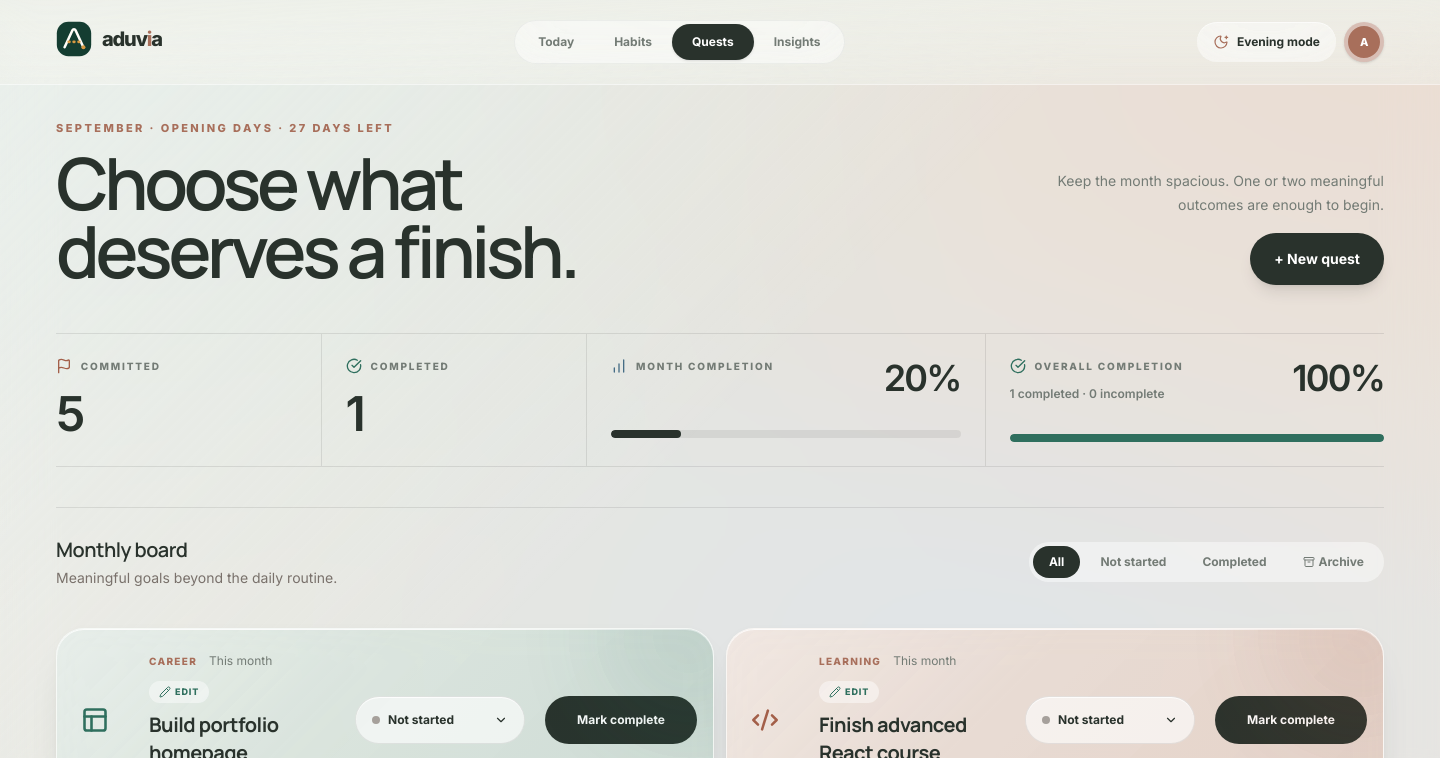
Scenario: QuestsDashboard › renames a quest and updates its inferred category
The image size is (1440, 758).
Click the button named "Edit Build portfolio homepage" at (179, 692), box x1=149 y1=681 x2=209 y2=703
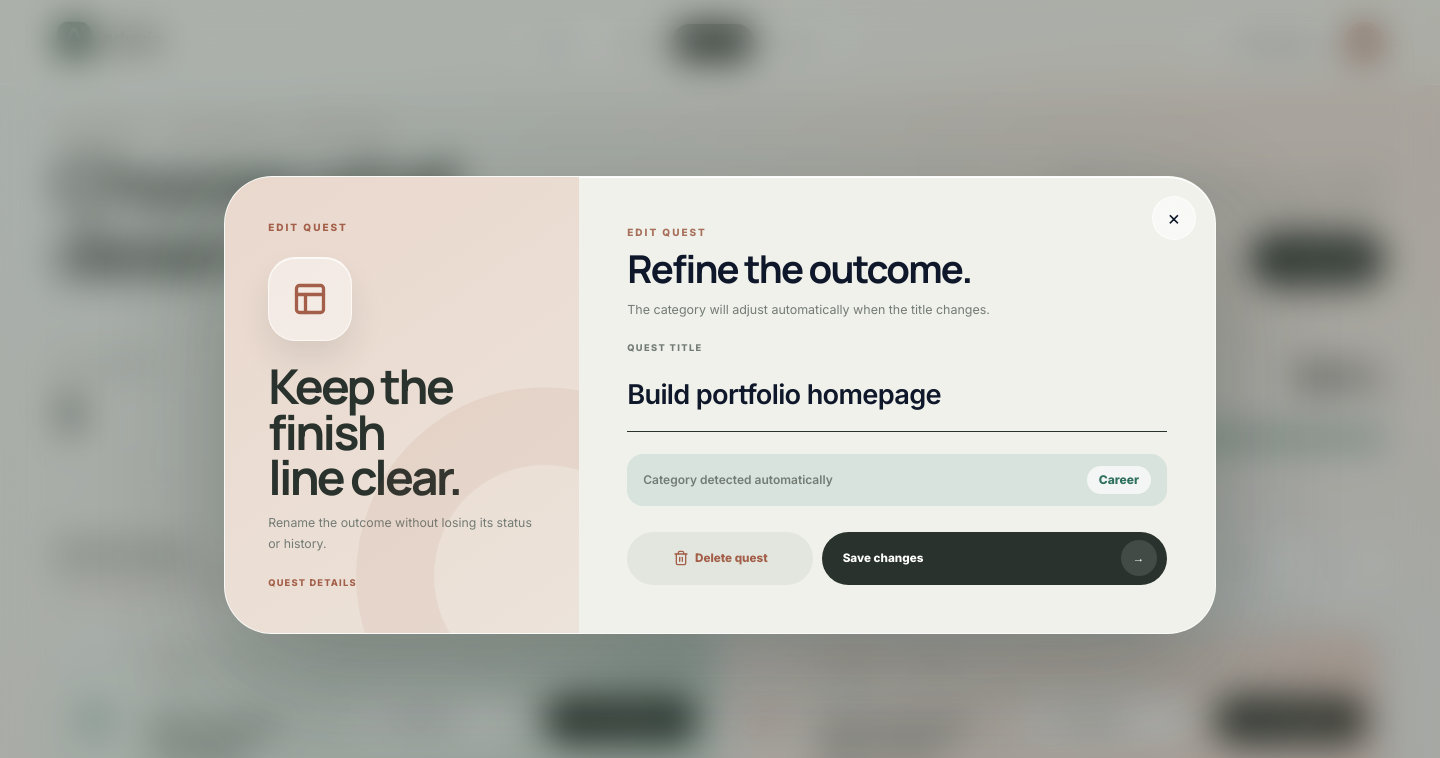
Replace the text in the field labelled "Quest title" with "Read a design book" at (897, 399), box x1=627 y1=365 x2=1167 y2=432
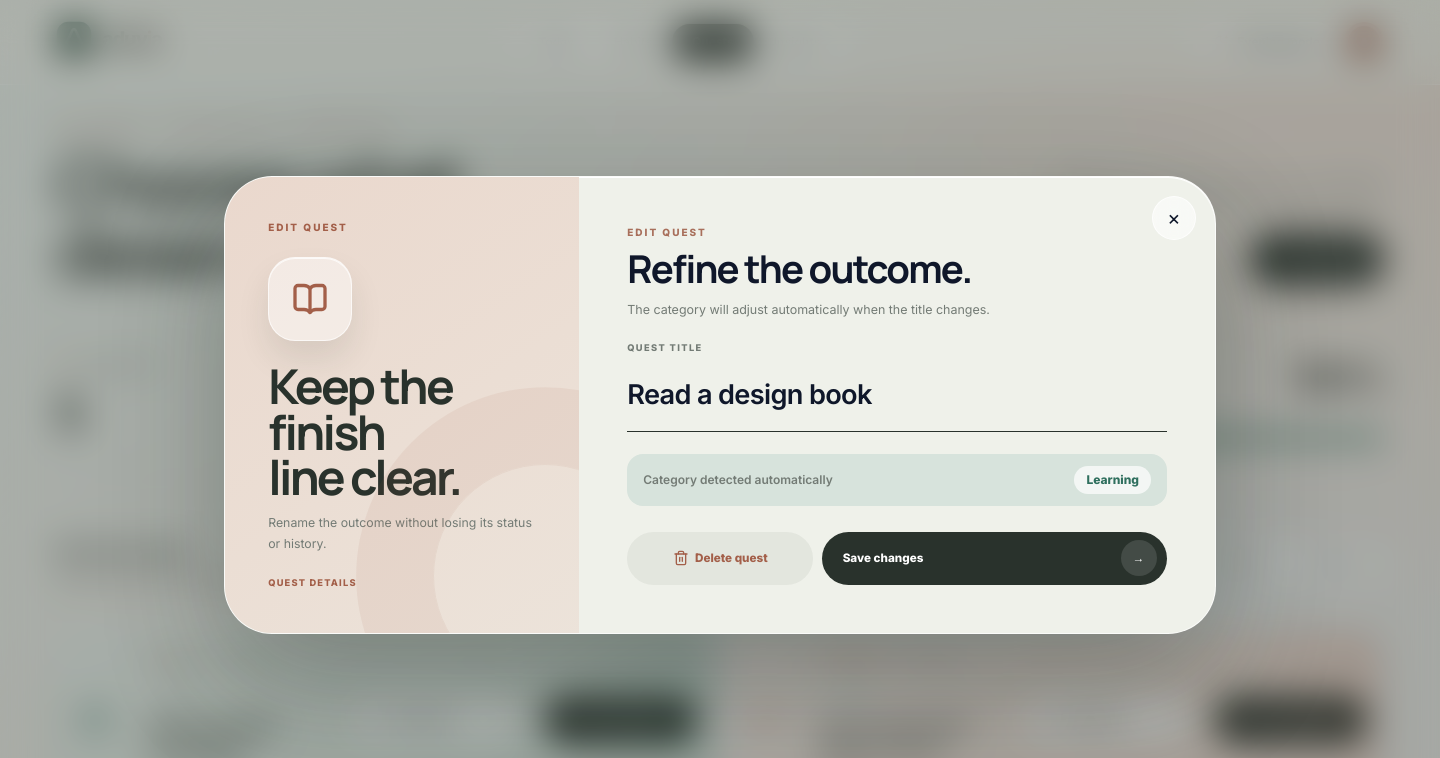
Click the button "Save changes →" at (883, 558), box x1=822 y1=532 x2=1167 y2=585
(page scrolled)
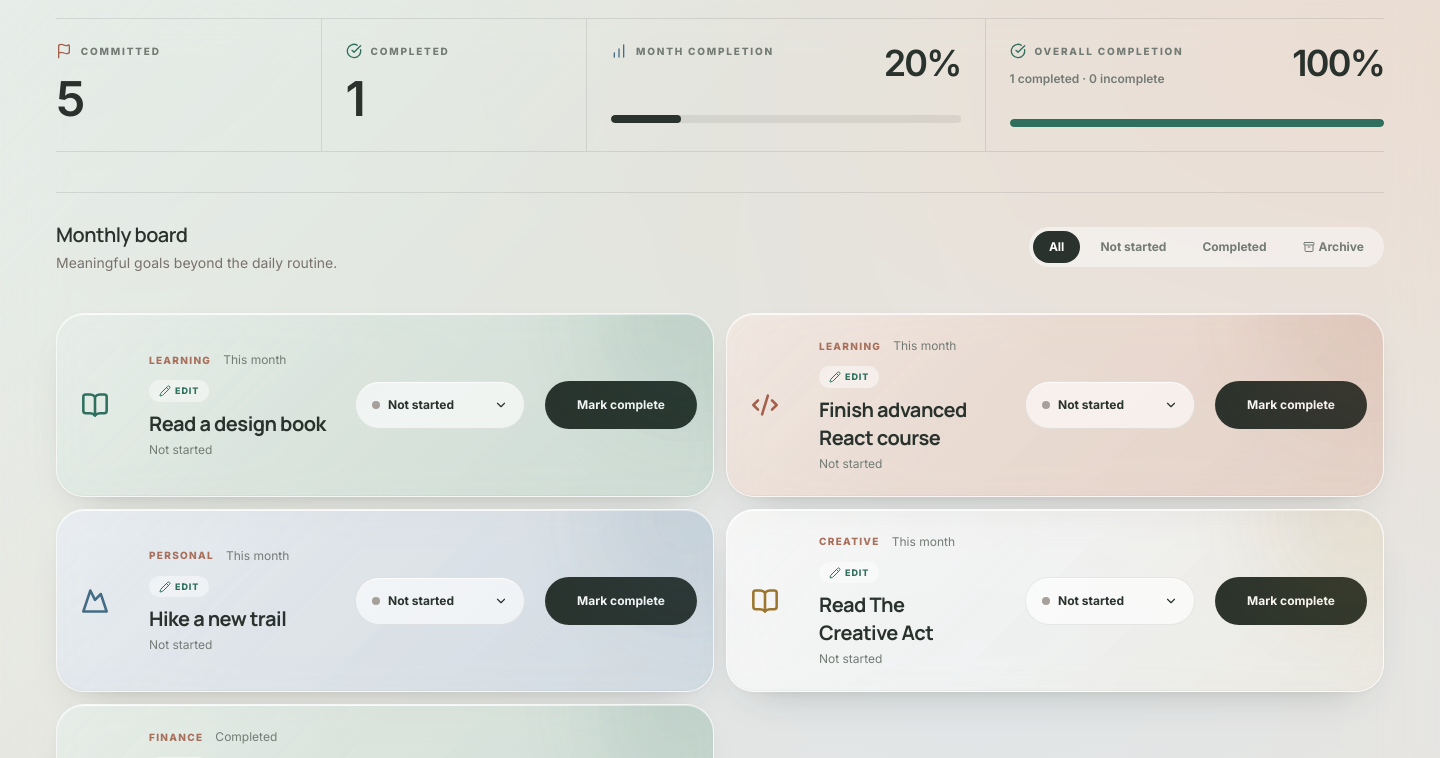
Expected: the text "Read a design book" shows "Not started", x1=149 y1=442 x2=212 y2=457
Expected: the text "Read a design book" shows "Learning", x1=149 y1=354 x2=211 y2=366
